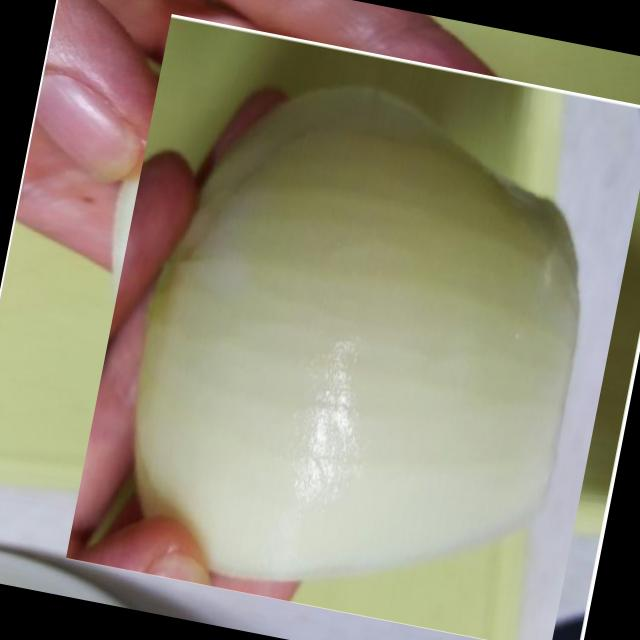Onion: (53, 26, 640, 640)
